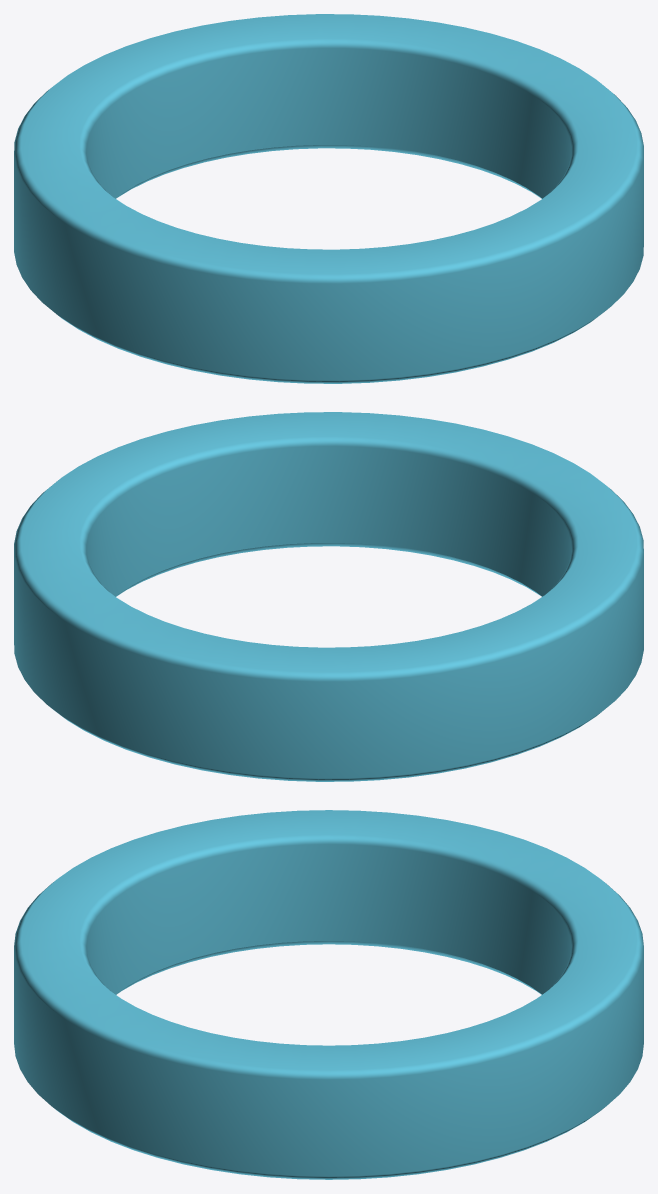
3 views of the same model, one above another, from view 1: azimuth 30°, elevation 25°; view 2: azimuth 150°, elevation 25°; view 3: azimuth 270°, elevation 25° (orthographic).
Visible parts, largest first — view 1: seal_body; view 2: seal_body; view 3: seal_body.
Part boxes in pixels (x1,y1,x2,y2): seal_body: [14, 14, 643, 383]; seal_body: [14, 412, 643, 781]; seal_body: [14, 810, 643, 1179].
Bounding box in the file's own units: 0.0413 × 0.00793 × 0.0413.
